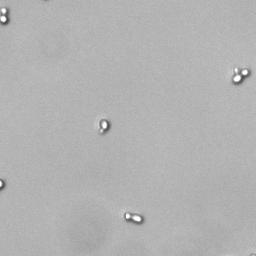budding: (232, 67, 250, 83), (123, 213, 144, 224), (98, 119, 109, 134), (1, 4, 8, 25)
